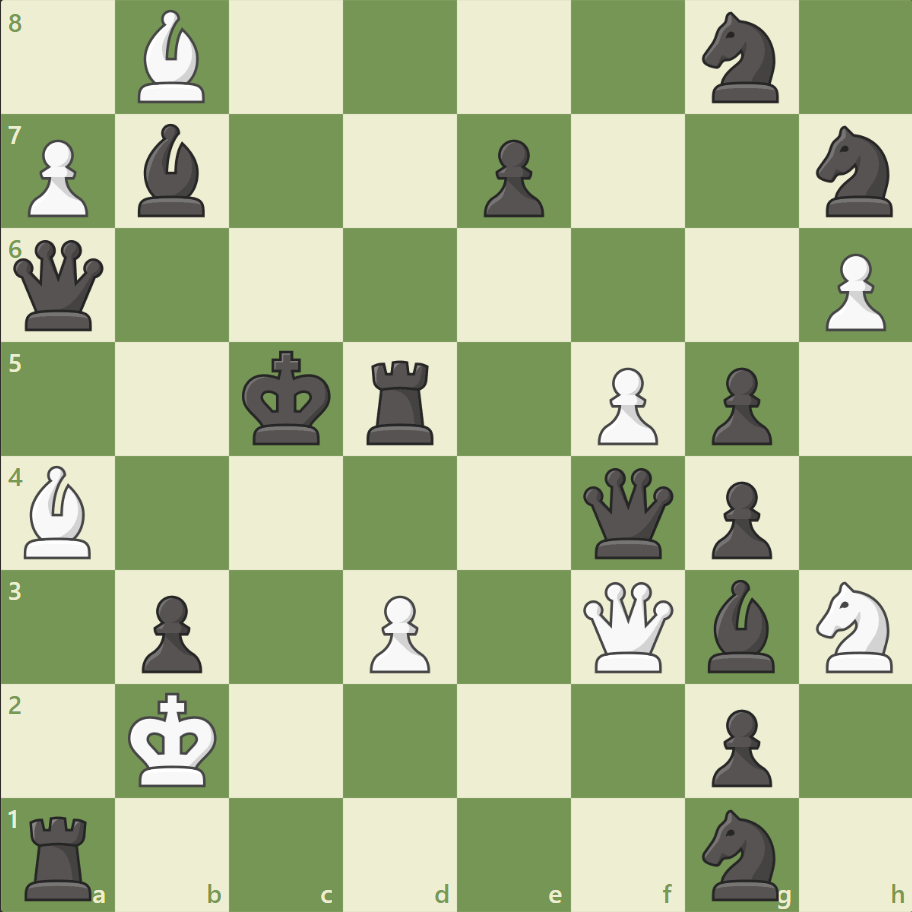B: (131, 6, 215, 109), (17, 460, 101, 563)
K: (124, 685, 224, 793)
N: (806, 575, 903, 677)
P: (20, 132, 95, 223), (815, 246, 889, 337), (588, 359, 662, 450), (361, 586, 435, 677)
Q: (578, 576, 677, 676)
b: (131, 120, 215, 222), (698, 574, 782, 676)
k: (238, 344, 338, 452)
n: (692, 7, 789, 110), (806, 121, 903, 223), (692, 802, 789, 904)
p: (474, 132, 549, 223), (701, 359, 776, 450), (701, 473, 776, 564), (133, 586, 208, 677), (701, 700, 776, 791)
q: (10, 236, 109, 335), (578, 463, 677, 562)
r: (19, 806, 102, 904), (360, 352, 442, 449)
